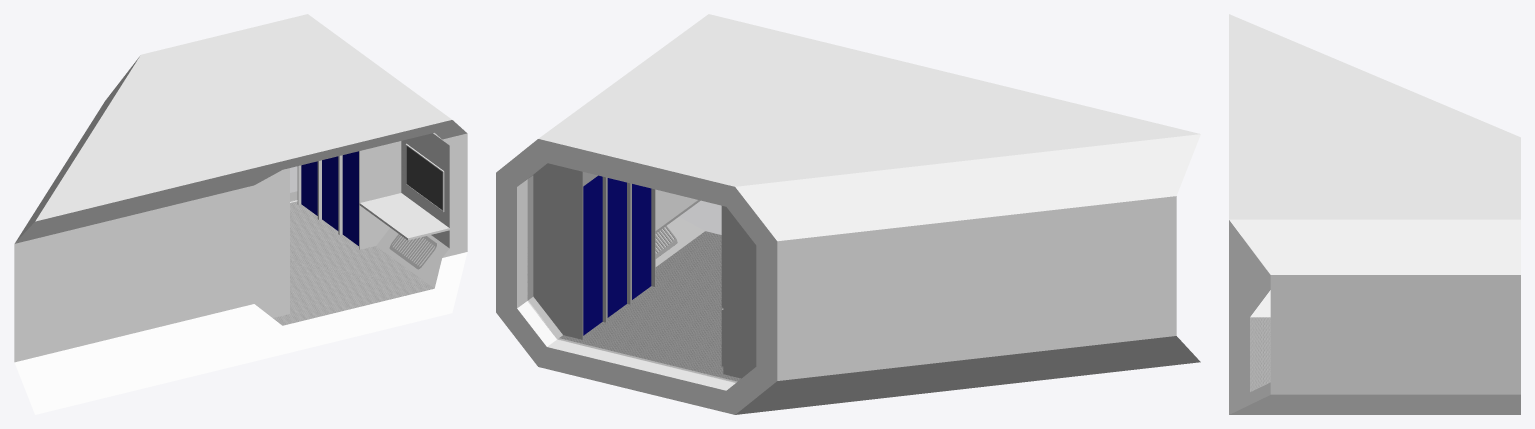
The model's file is ARKHA_L2_SystemsBayTri_V1.glb.
3 renders of one model, left to right at view 1: azimuth 30°, elevation 25°; view 2: azimuth 150°, elevation 25°; view 3: azimuth 270°, elevation 25°, orthographic. The views are drawn at different scales.
Visible parts, largest first — view 1: 1471995, 1449281, 1450167, 1469245, 1472208, 1450168, 1472539, 1471952, 1472540; view 2: 1471995, 1449664, 1450368, 1471991, 1472540, 1472539, 1450168, 1469245, 1449966; view 3: 1471995, 1449281.
Boxes of the visible parts, x1,y1,x2,y2 form: 1471995: (14, 14, 467, 414); 1449281: (32, 168, 289, 382); 1450167: (339, 141, 401, 249); 1469245: (359, 193, 449, 240); 1472208: (405, 143, 444, 211); 1450168: (342, 151, 358, 245); 1472539: (322, 156, 338, 230); 1471952: (389, 234, 437, 269); 1472540: (301, 161, 317, 215); 1471995: (496, 14, 1200, 414); 1449664: (528, 163, 755, 382); 1450368: (533, 163, 606, 339); 1471991: (721, 206, 756, 378); 1472540: (583, 175, 602, 335); 1472539: (607, 178, 626, 317); 1450168: (632, 184, 651, 299); 1469245: (655, 189, 700, 233); 1449966: (607, 177, 631, 321); 1471995: (1229, 14, 1520, 414); 1449281: (1250, 248, 1270, 317).
Bounding box in the file's own units: 7.6 × 3.1 × 4.2.
Materials: 653 (1 with a texture image).
